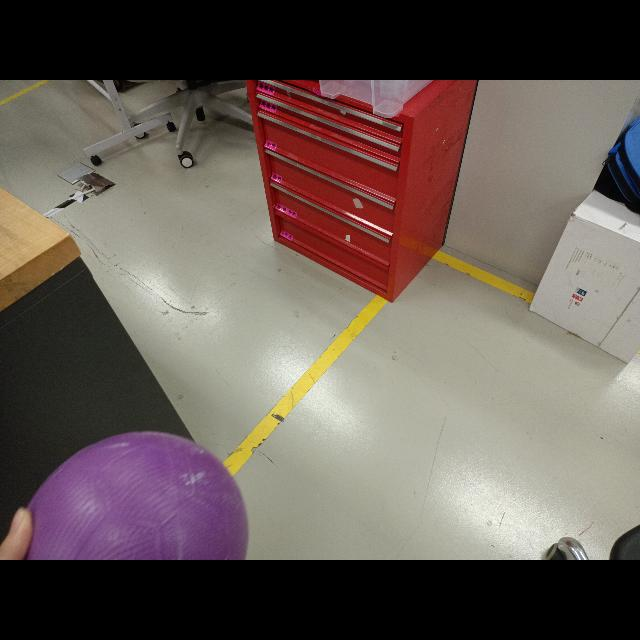P: (18, 430, 248, 560)
